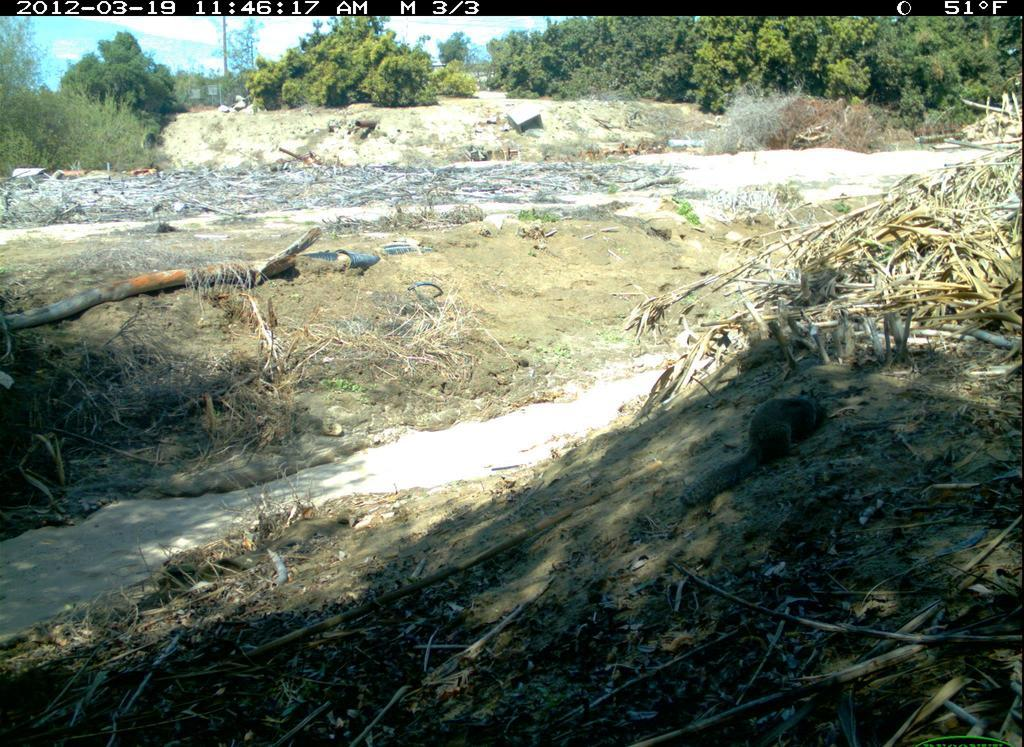squirrel: (676, 381, 818, 523)
